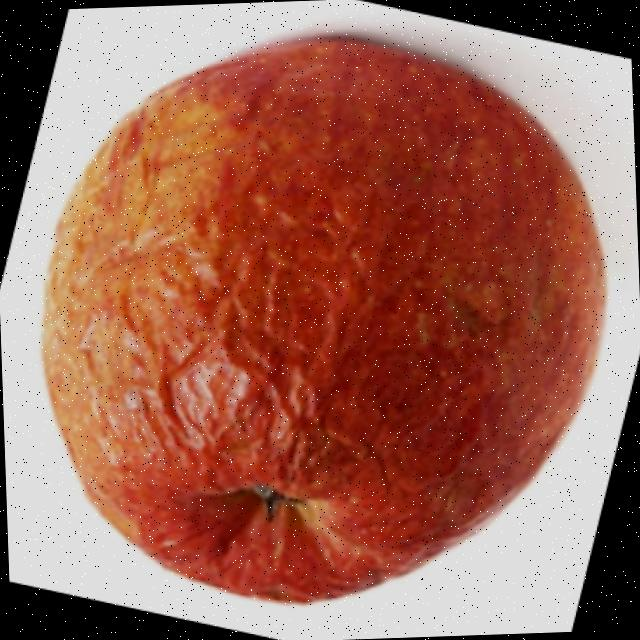overripe: (22, 21, 621, 622)
